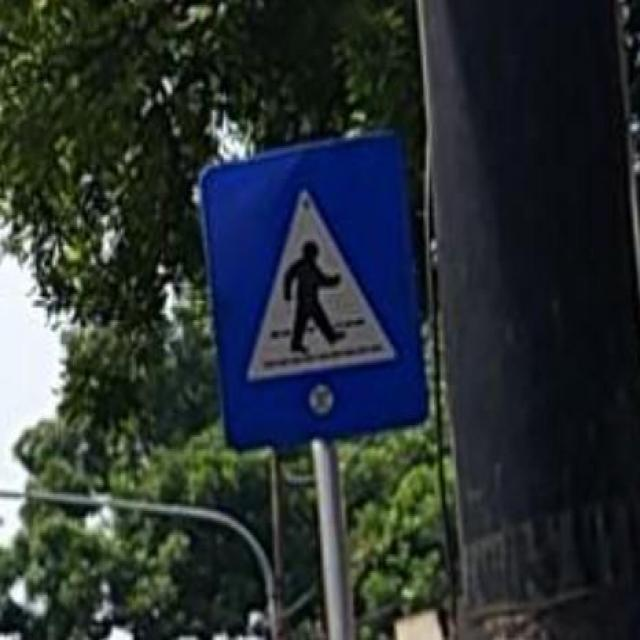ped_crossing: (192, 135, 430, 441)
